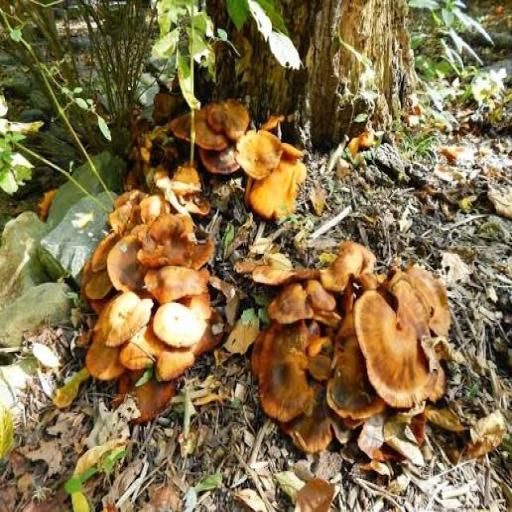Jack O Lantern Mushroom: (358, 281, 445, 410), (250, 326, 330, 429), (96, 290, 162, 344), (135, 258, 216, 301), (313, 242, 375, 293), (151, 298, 209, 348), (265, 277, 321, 325), (234, 128, 286, 174)
